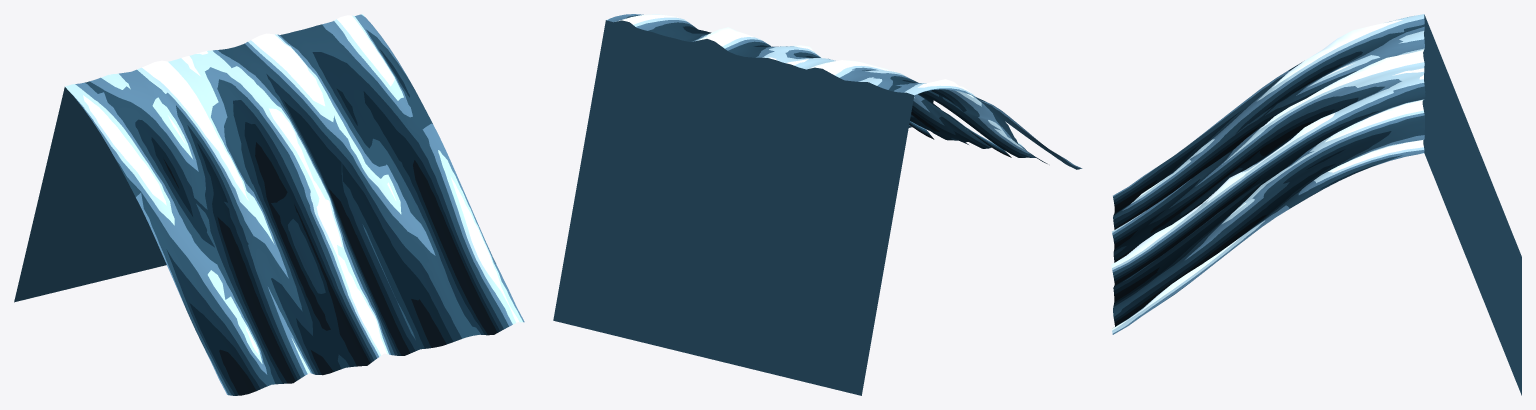
File: torm_fall_tm_242.glb
The picture shows the model from 3 angles, left to right: view 1: azimuth 30°, elevation 25°; view 2: azimuth 150°, elevation 25°; view 3: azimuth 270°, elevation 25°; orthographic projection. The views are drawn at different scales.
Visible parts, largest first — view 1: torm_fall_tm_242; view 2: torm_fall_tm_242; view 3: torm_fall_tm_242.
Boxes of the visible parts, box(x1,y1,x2,y2) form: torm_fall_tm_242: box(14, 14, 524, 395); torm_fall_tm_242: box(553, 14, 1082, 395); torm_fall_tm_242: box(1111, 14, 1521, 395).
Size of the model in its own units: 24 by 19.86 by 29.89.
